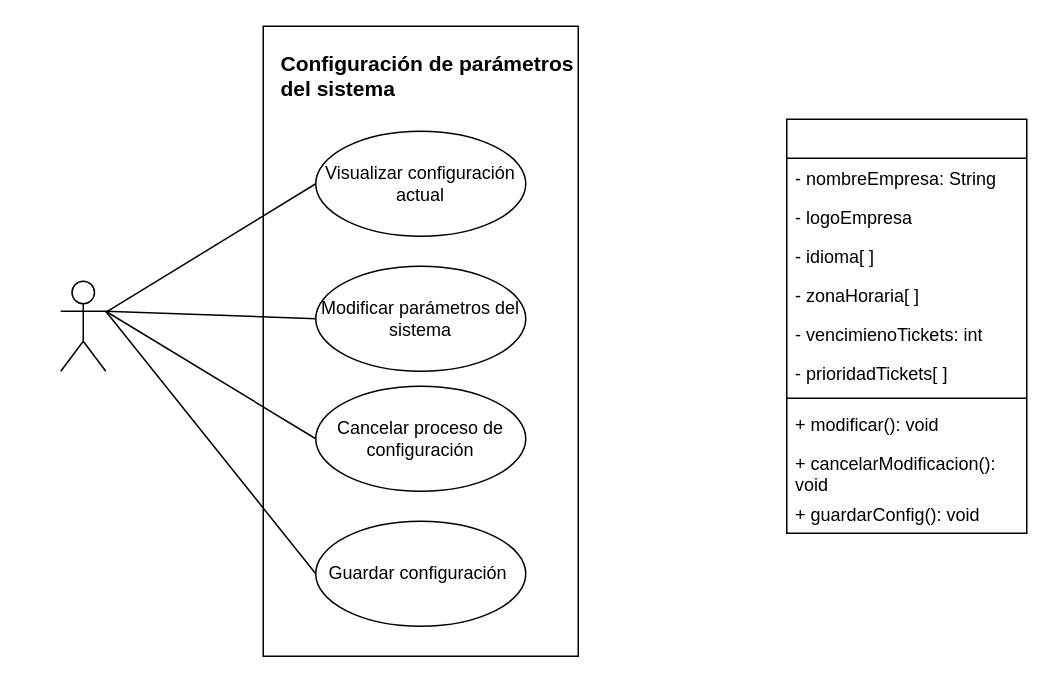
Some shapes in this 1053 by 683 pixel diagram are drawn without their labels. The shapes that lost their labels are listed below. From the top down, each one's box as (x1, y1, x2, y2) in pixels, then its label:
(59, 280, 106, 371): Administrador
(785, 118, 1027, 533): Parametros
